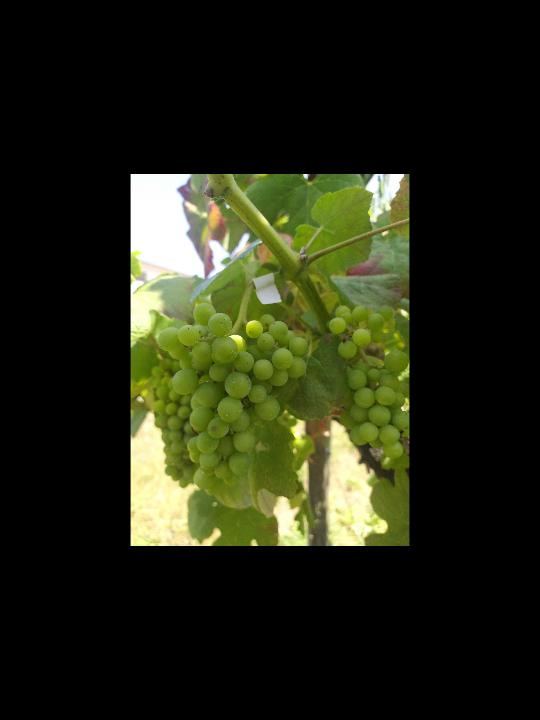grape: (156, 302, 310, 498)
